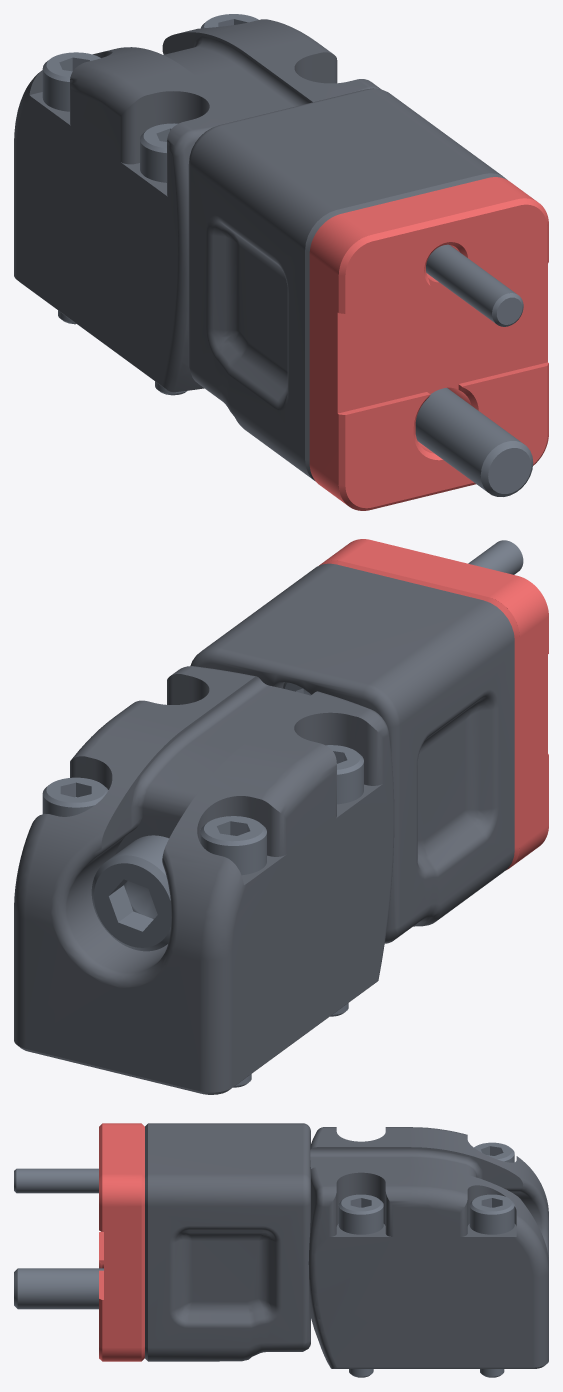
The picture shows the model from 3 angles, top to bottom: view 1: azimuth 30°, elevation 25°; view 2: azimuth 150°, elevation 25°; view 3: azimuth 270°, elevation 25°; orthographic projection. The views are drawn at different scales.
Parts seen in each view (by area): view 1: z_bearing_block_bottom__1_, z_belt_clamp_lower__1_, z_bearing_block_top__1_, m5x30_bhcs__7_, m3x30_shcs__9_, m3x20_shcs__6_, m3x20_shcs__20_; view 2: z_bearing_block_bottom__1_, z_bearing_block_top__1_, z_belt_clamp_lower__1_, m5x40_shcs__11_, m3x20_shcs__6_, m3x20_shcs__21_, m3x20_shcs__20_, m3x30_shcs__9_; view 3: z_bearing_block_bottom__1_, z_bearing_block_top__1_, z_belt_clamp_lower__1_, m5x30_bhcs__7_, m3x30_shcs__9_, m3x20_shcs__21_, m3x20_shcs__1_, m3x20_shcs__6_.
Part boxes in pixels (box(x1,y1,x2,y2)): z_bearing_block_bottom__1_: box(14, 19, 380, 392); z_belt_clamp_lower__1_: box(309, 177, 548, 510); z_bearing_block_top__1_: box(188, 88, 507, 481); m5x30_bhcs__7_: box(415, 388, 533, 496); m3x30_shcs__9_: box(426, 244, 523, 326); m3x20_shcs__6_: box(42, 52, 100, 324); m3x20_shcs__20_: box(140, 123, 187, 395); z_bearing_block_bottom__1_: box(14, 666, 394, 1094); z_bearing_block_top__1_: box(190, 563, 514, 943); z_belt_clamp_lower__1_: box(319, 539, 548, 870); m5x40_shcs__11_: box(91, 835, 171, 951); m3x20_shcs__6_: box(200, 816, 266, 1087); m3x20_shcs__21_: box(42, 777, 108, 816); m3x20_shcs__20_: box(326, 745, 363, 1016); m3x30_shcs__9_: box(282, 540, 523, 695); z_bearing_block_bottom__1_: box(308, 1127, 548, 1368); z_bearing_block_top__1_: box(145, 1123, 310, 1361); z_belt_clamp_lower__1_: box(99, 1123, 144, 1361); m5x30_bhcs__7_: box(14, 1268, 103, 1309); m3x30_shcs__9_: box(14, 1168, 98, 1193); m3x20_shcs__21_: box(469, 1194, 514, 1377); m3x20_shcs__1_: box(338, 1194, 383, 1377); m3x20_shcs__6_: box(474, 1142, 514, 1162).
Size of the model in its own units: 0.0205 by 0.0267 by 0.0654.
